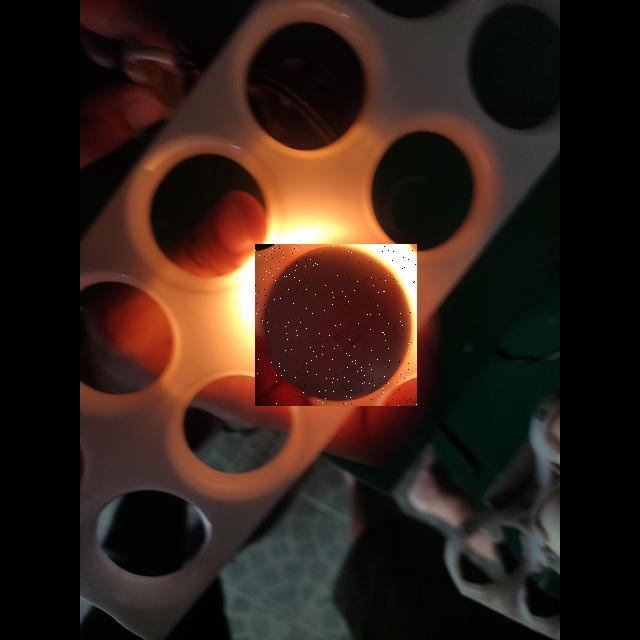Fertile: (255, 244, 417, 406)
